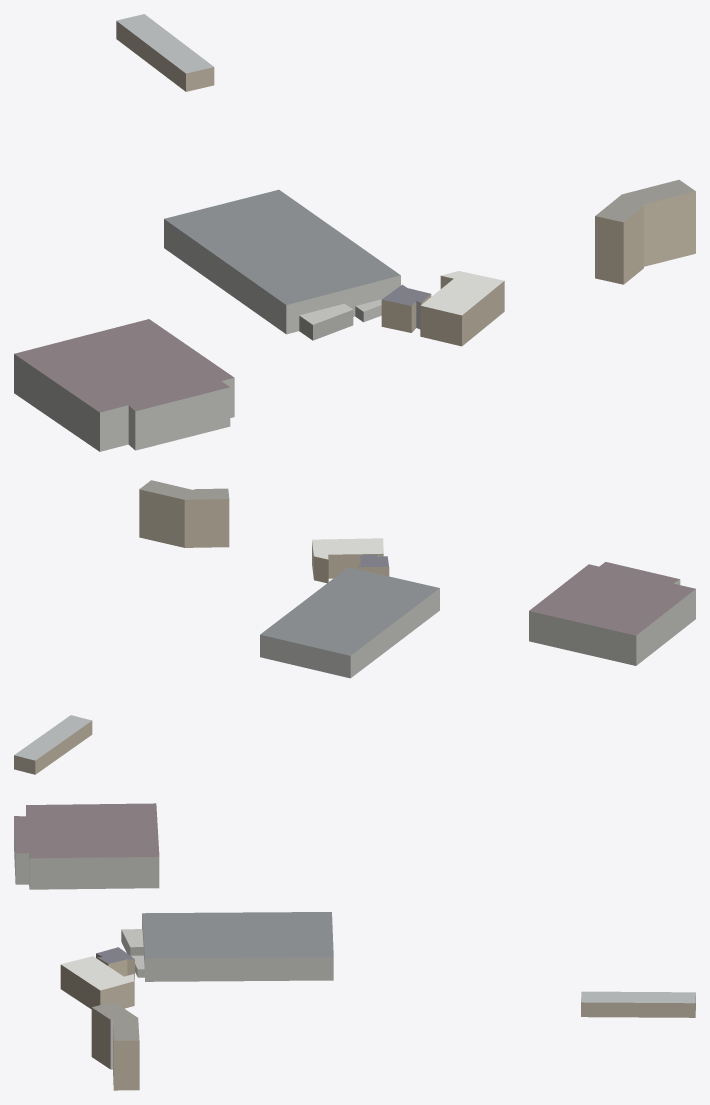
3 views of the same model, one above another, from view 1: azimuth 30°, elevation 25°; view 2: azimuth 150°, elevation 25°; view 3: azimuth 270°, elevation 25° (orthographic). The views are drawn at different scales.
Visible parts, largest first — view 1: tuile; view 2: tuile; view 3: tuile.
Part boxes in pixels (<box>): tuile: <box>14,14,695,451</box>; tuile: <box>14,480,695,774</box>; tuile: <box>14,803,695,1090</box>.
Bounding box in the file's own units: 236 × 22.57 × 267.
